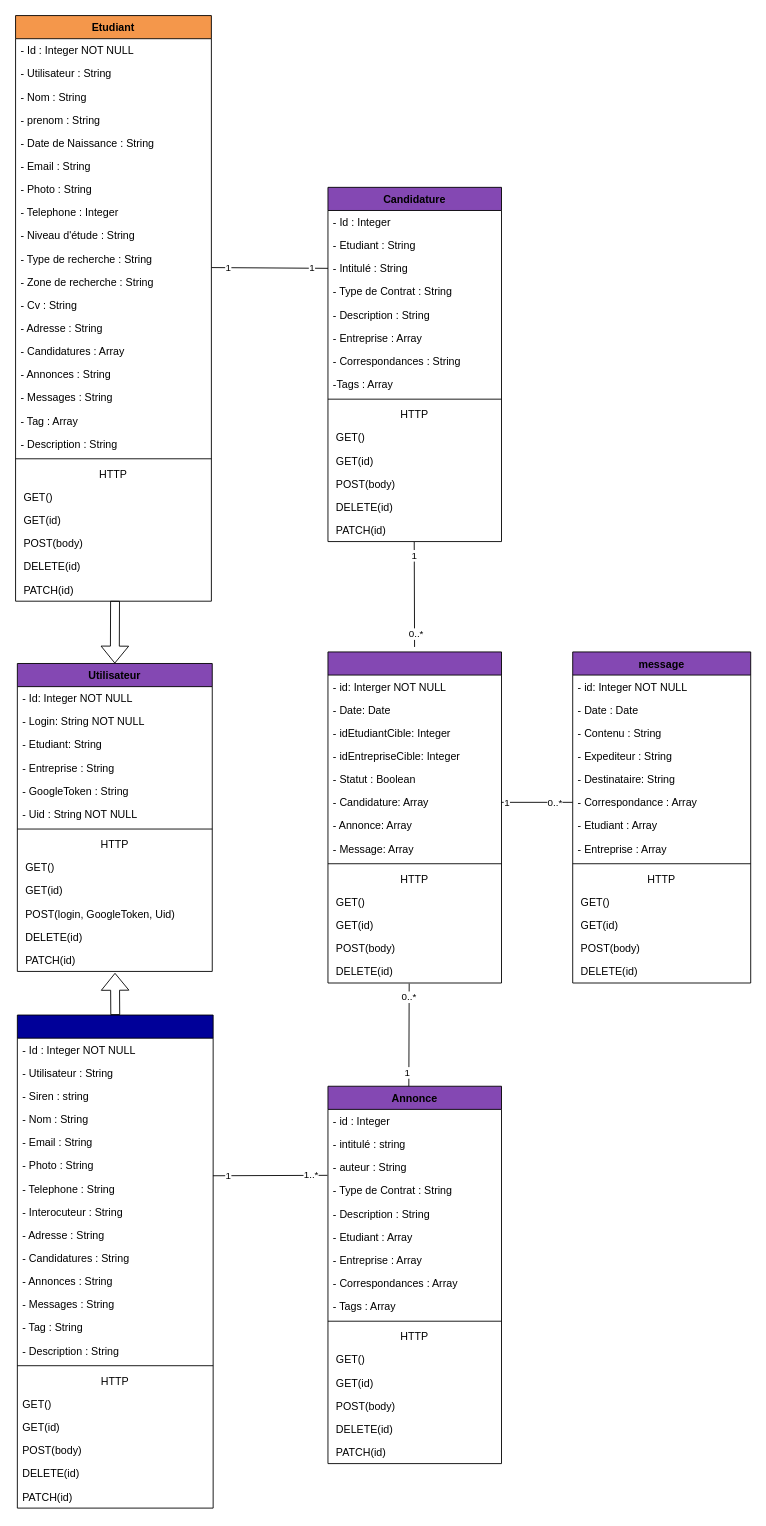
Image size: 766x1526. Some labels were removed from this diagram. The shapes that lost their labels are listed below. From the top down, each one's box as (x1, y1, x2, y2) in pixels, then its label:
(327, 651, 502, 983): correspondance
(16, 1014, 213, 1508): Enterprise
